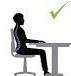good-pose: (0, 0, 71, 76)
